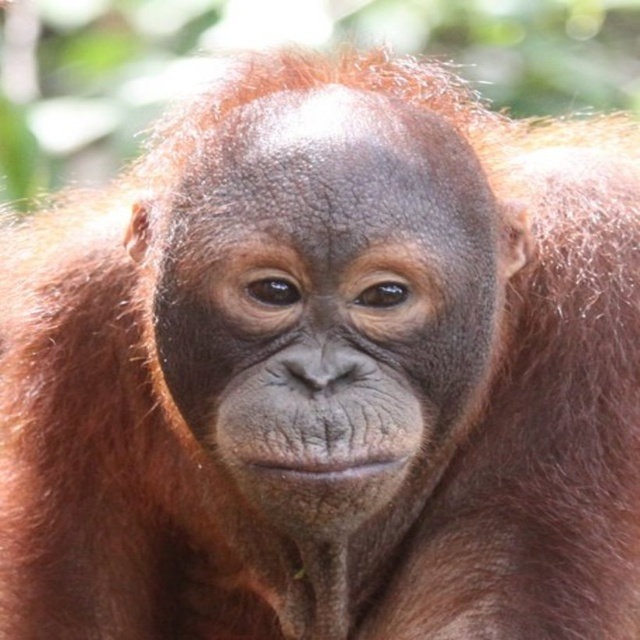Monkey: (0, 52, 639, 639)
